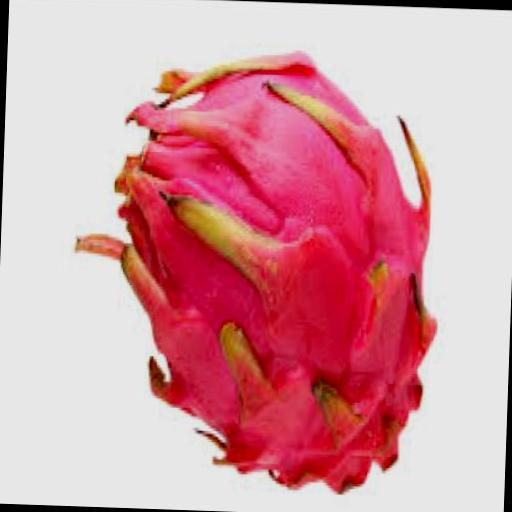biodegradable: (66, 38, 438, 498)
